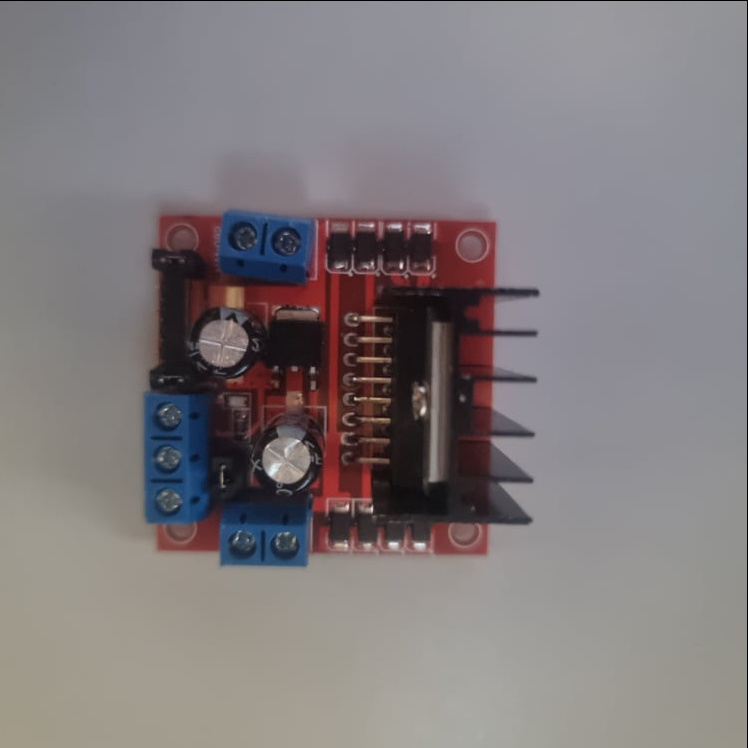MOTOR: (142, 203, 545, 569)
